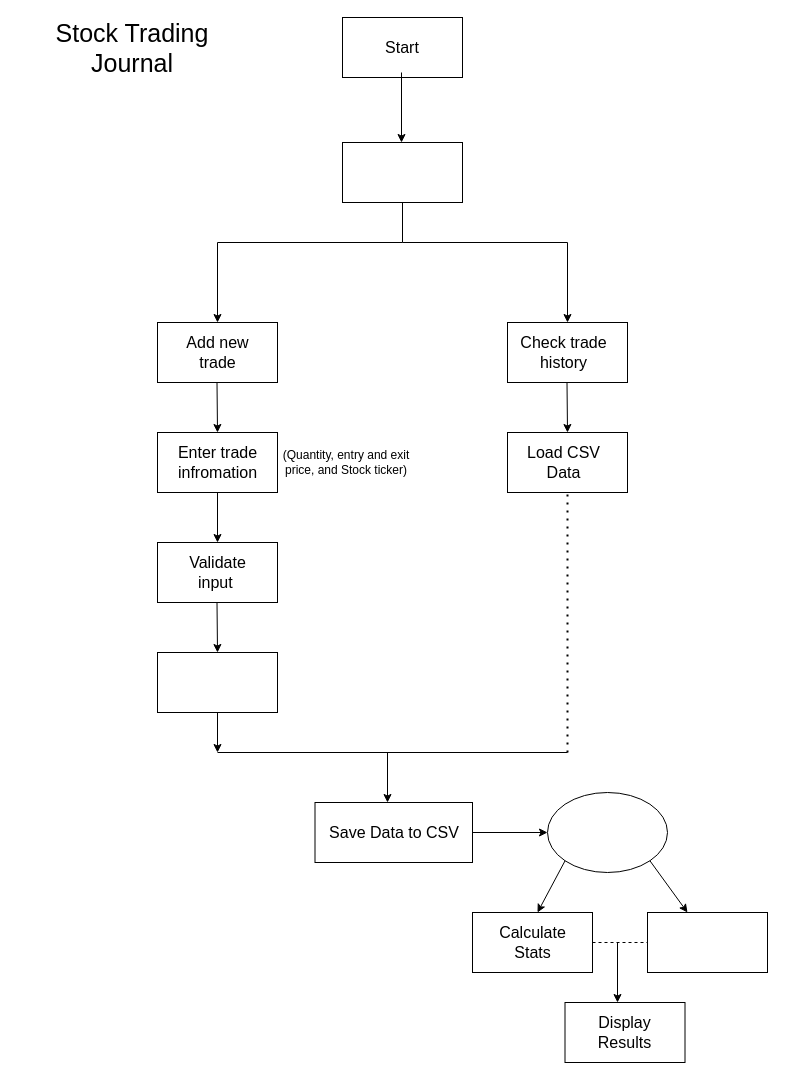
The diagram is 785 pixels wide and 1080 high, and some of its shapes have lost their labels. Here are the shapes that lost their labels. From the top down, the centre of each, then its label:
At point (402, 172): "Main Dashboard".
At point (217, 682): "Calculate P/L".
At point (607, 832): "Performance Summary".
At point (707, 942): "Create Charts".
